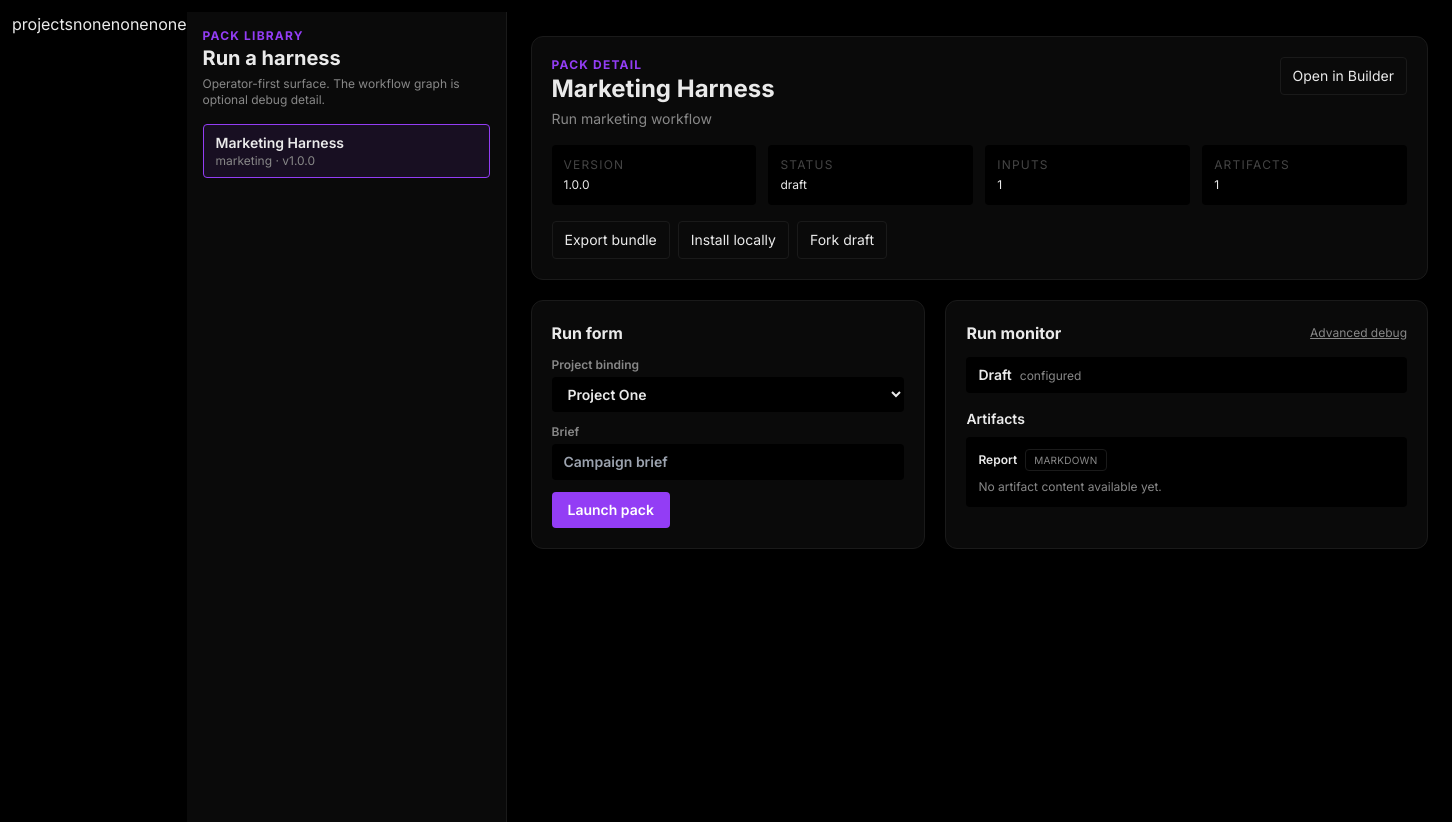
PackLibraryView › passes explicit pack/workflow/execution intent when opening the builder from Packs
Check: the text "Pack Detail" is shown, box 552,57 -> 642,72
Type "Launch the spring campaign" into the field labelled "Brief". click: coordinates (728, 462)
box: 552,444 -> 904,480
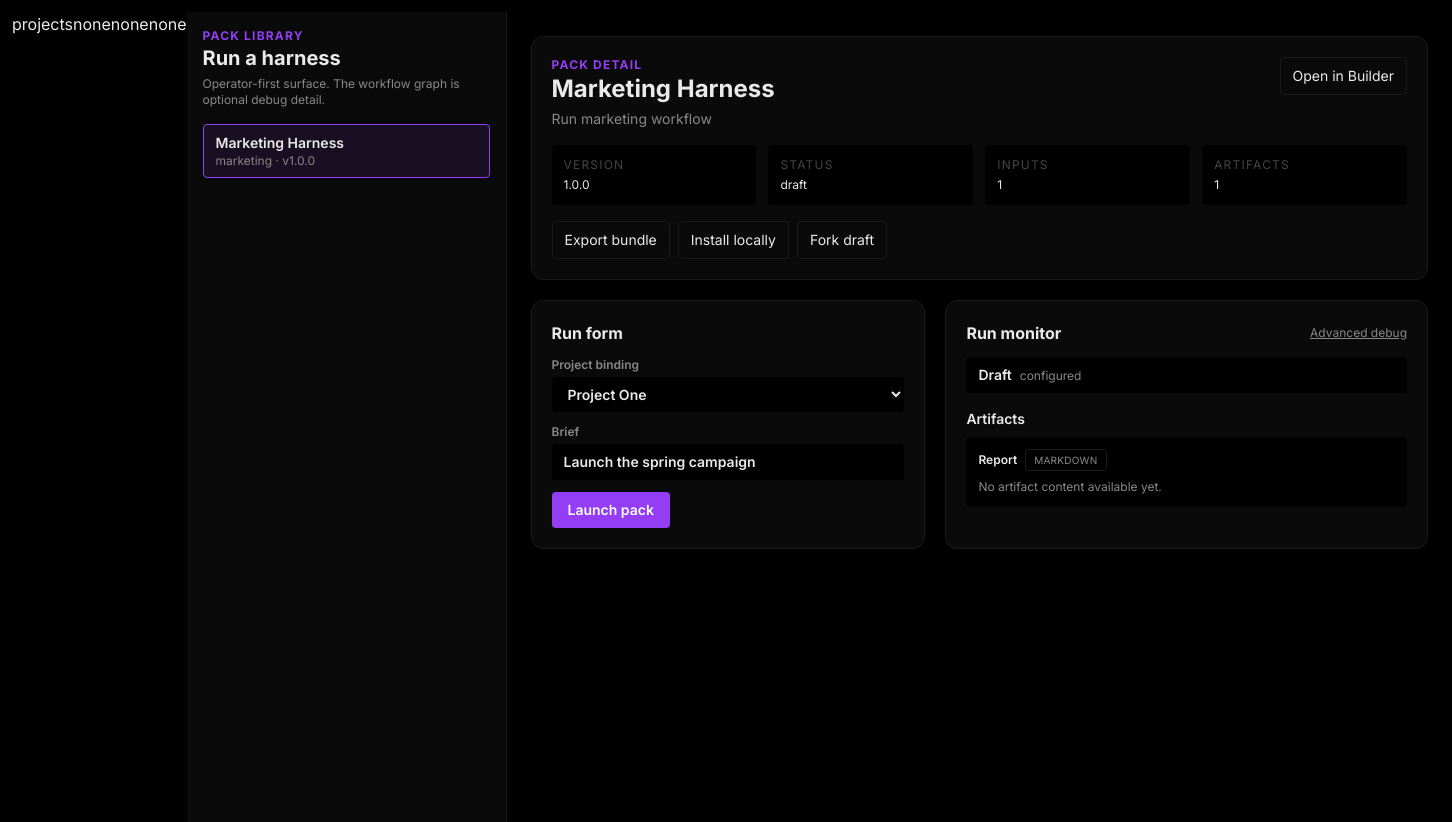
Click the button "Launch pack". click: coordinates (611, 510)
box: 552,492 -> 670,528
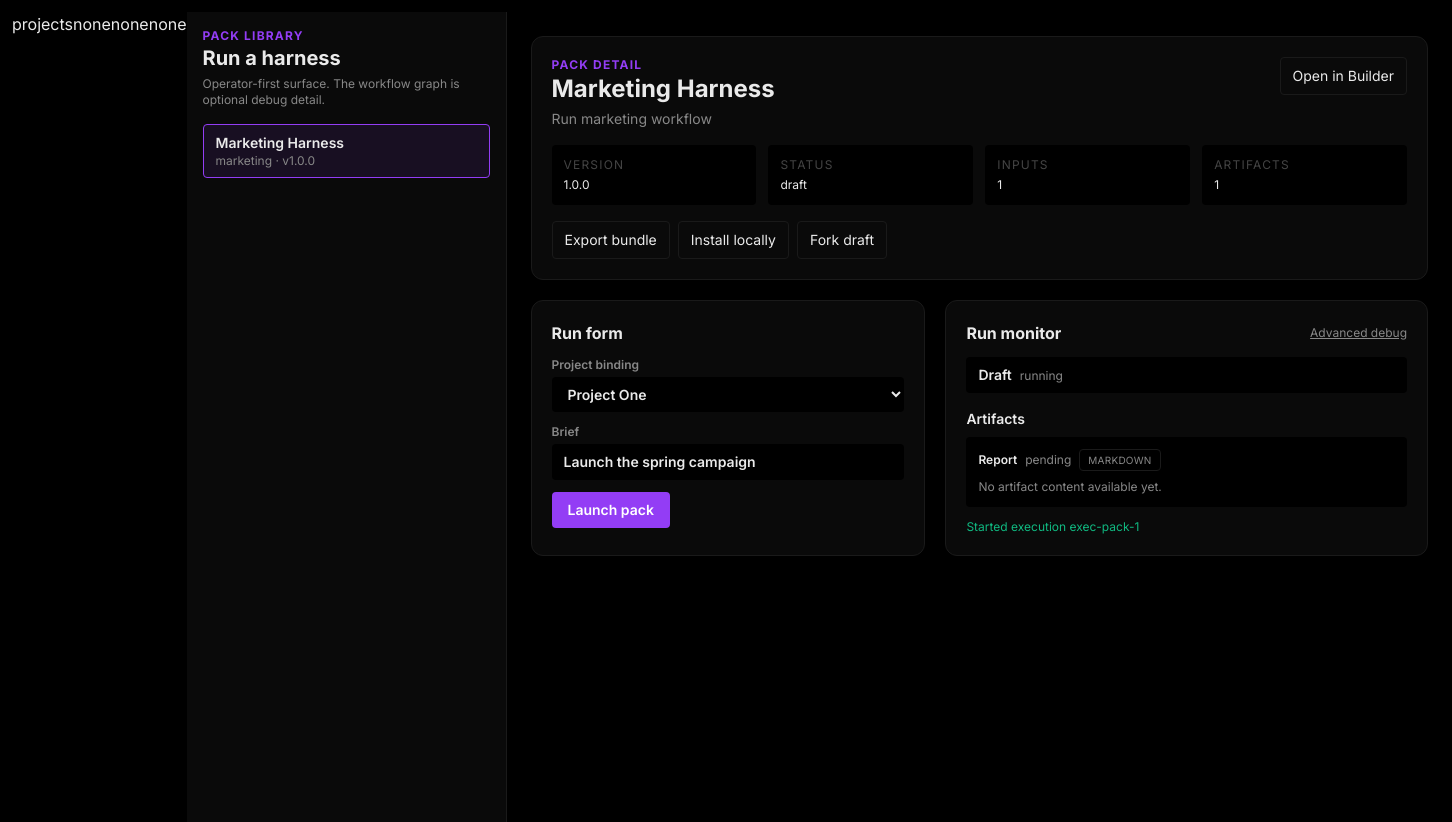
Check: the text "Started execution exec-pack-1" is shown, box 966,519 -> 1139,534
Click the button "Open in Builder". click: coordinates (1343, 76)
box: 1280,57 -> 1407,95
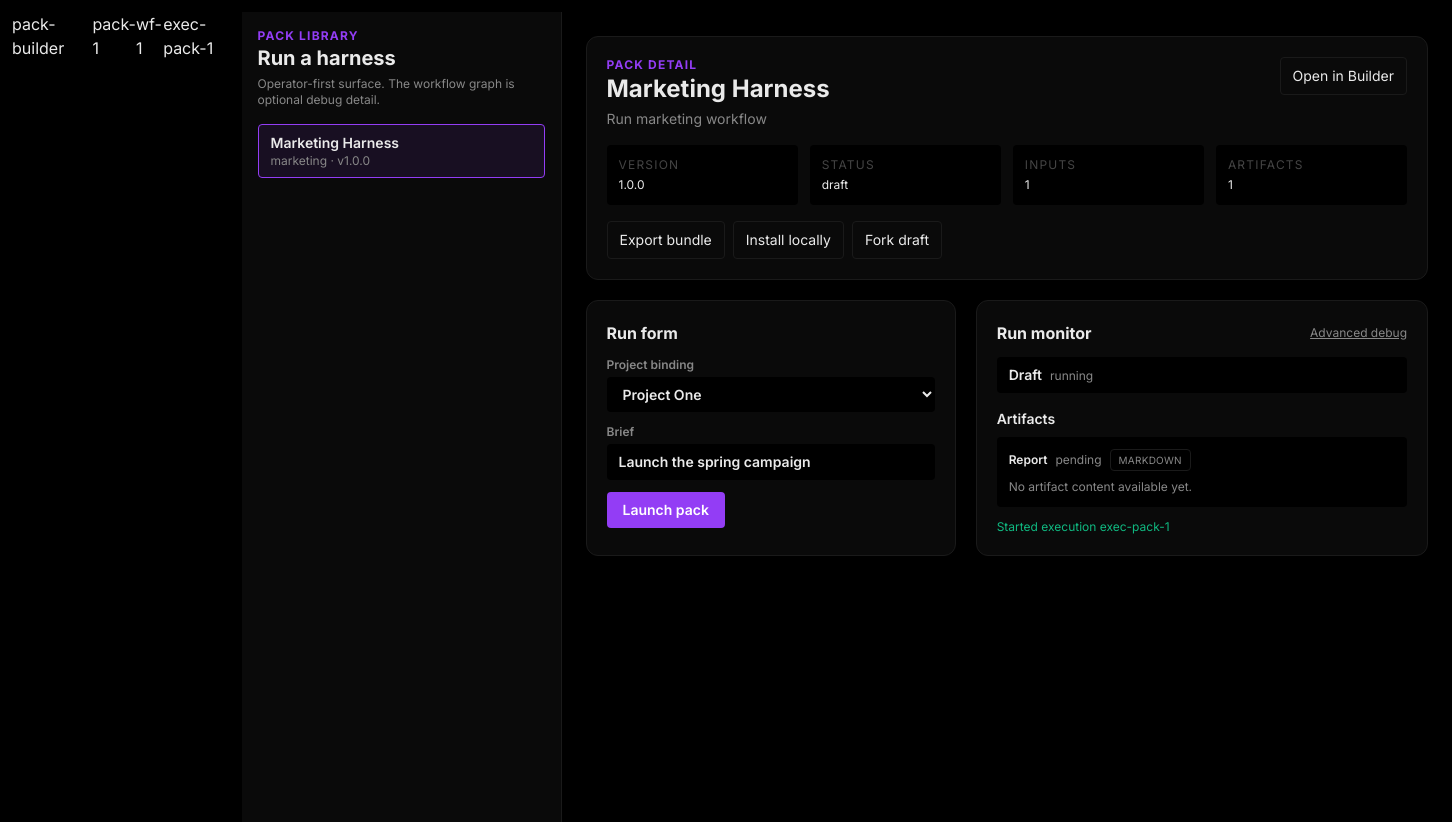
Check: the text with test id "current-view" reads "pack-builder", box 12,14 -> 64,58
Check: the text with test id "nav-pack-id" reads "pack-1", box 92,14 -> 136,58
Check: the text with test id "nav-workflow-id" reads "wf-1", box 136,14 -> 162,58
